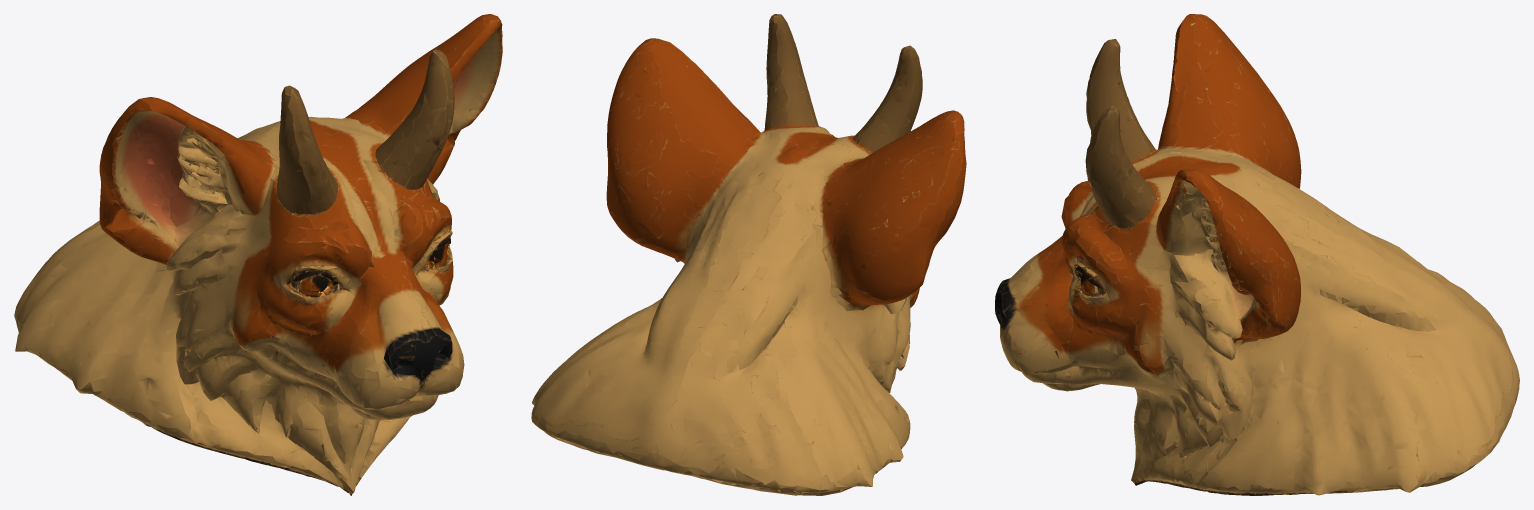
3 views of the same model, side by side, from view 1: azimuth 30°, elevation 25°; view 2: azimuth 150°, elevation 25°; view 3: azimuth 270°, elevation 25° (orthographic). The views are drawn at different scales.
Parts seen in each view (by area): view 1: world; view 2: world; view 3: world.
Part boxes in pixels (x1,y1,x2,y2): world: [14, 14, 502, 495]; world: [531, 14, 966, 495]; world: [995, 14, 1519, 495].
Bounding box in the file's own units: 0.8133 × 0.866 × 1.
Materials: 1 (1 with a texture image).
